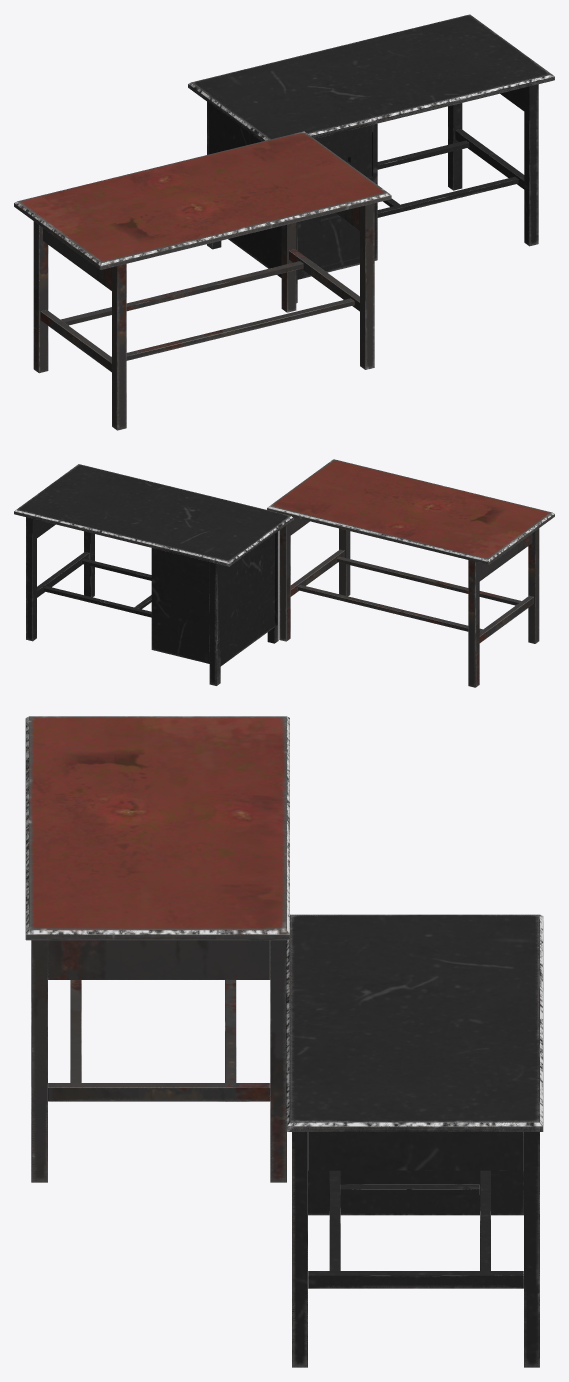
File: Tables.fbx
3 views of the same model, one above another, from view 1: azimuth 30°, elevation 25°; view 2: azimuth 150°, elevation 25°; view 3: azimuth 270°, elevation 25° (orthographic). The views are drawn at different scales.
Visible parts, largest first — view 1: TableOutdoor, Office_table; view 2: Office_table, TableOutdoor; view 3: Office_table, TableOutdoor.
Part boxes in pixels (x1=…): TableOutdoor: x1=14, y1=131, x2=391, y2=430; Office_table: x1=188, y1=14, x2=554, y2=303; Office_table: x1=14, y1=464, x2=293, y2=685; TableOutdoor: x1=267, y1=459, x2=554, y2=687; Office_table: x1=286, y1=914, x2=543, y2=1367; TableOutdoor: x1=25, y1=716, x2=289, y2=1182.
Size of the model in its own units: 213 by 64.87 by 116.
